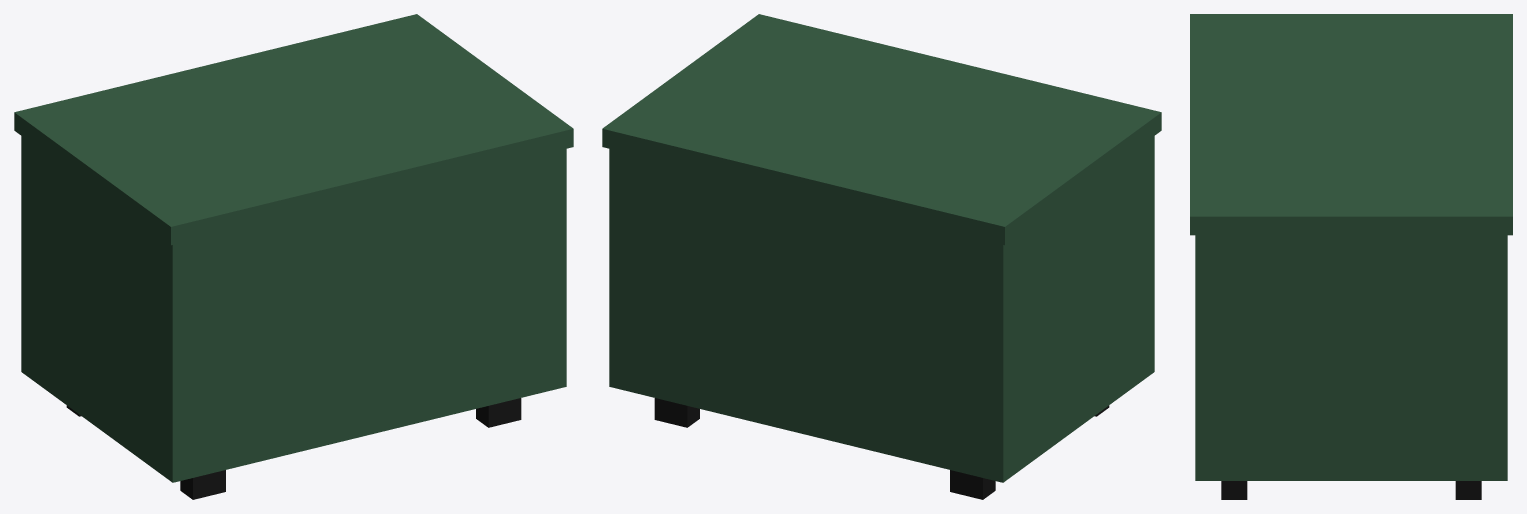
File: prop_container.glb
The picture shows the model from 3 angles, left to right: view 1: azimuth 30°, elevation 25°; view 2: azimuth 150°, elevation 25°; view 3: azimuth 270°, elevation 25°; orthographic projection. The views are drawn at different scales.
Parts seen in each view (by area): view 1: prop_container-col; view 2: prop_container-col; view 3: prop_container-col.
Boxes of the visible parts, x1,y1,x2,y2 form: prop_container-col: (14, 14, 573, 499); prop_container-col: (602, 14, 1161, 499); prop_container-col: (1190, 14, 1512, 499).
Bounding box in the file's own units: 1.84 × 1.28 × 1.24.
